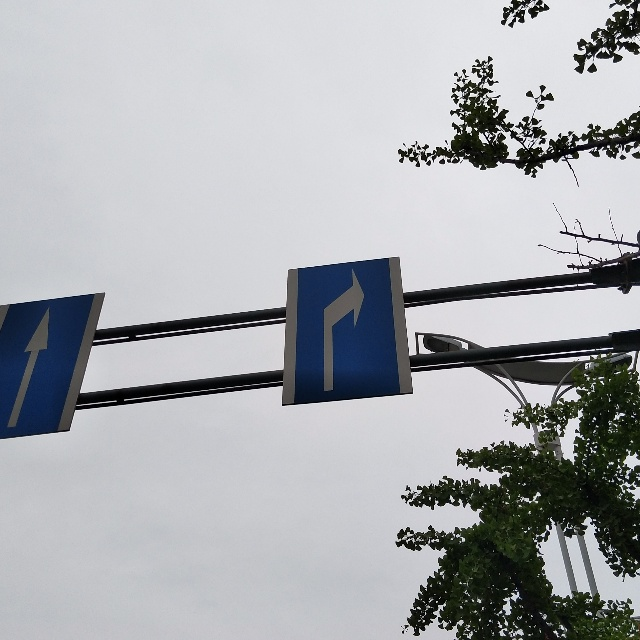right: (299, 263, 390, 396)
straight: (3, 302, 64, 434)
